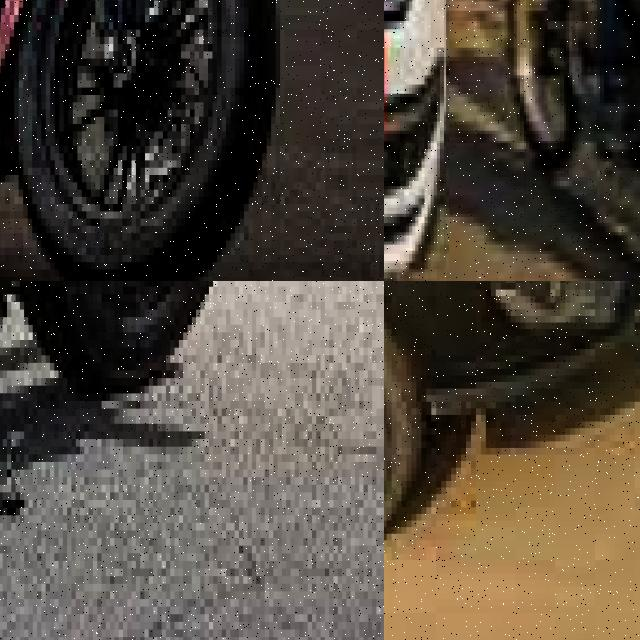bike: (0, 281, 316, 640), (0, 0, 284, 281)
car: (384, 281, 640, 500), (384, 0, 443, 281)
